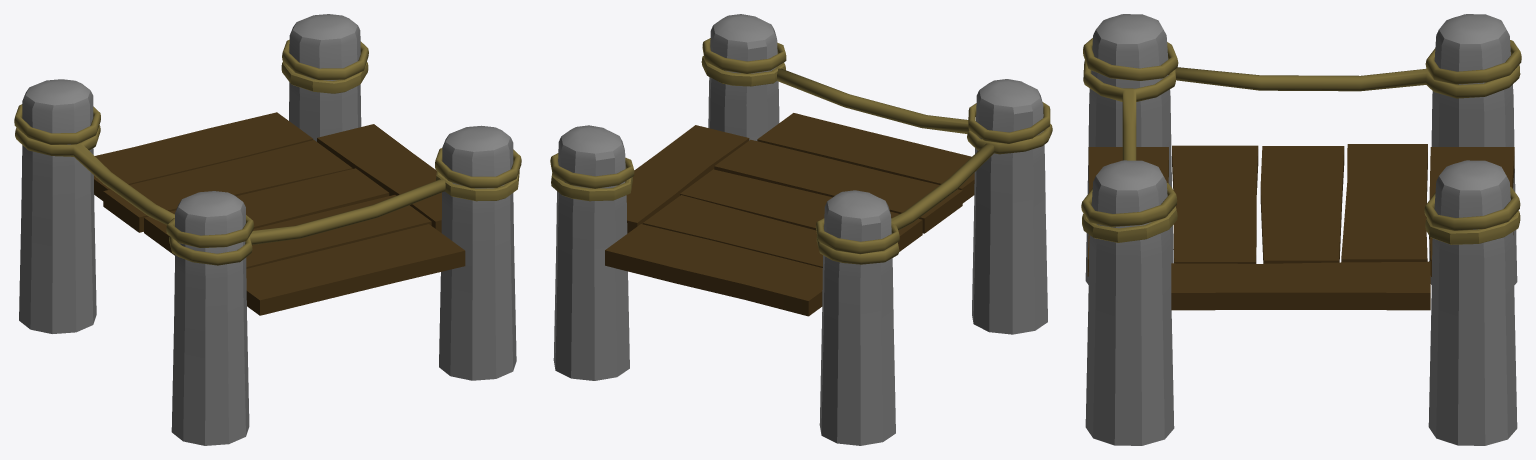
The model's file is DockConnectorOneway.fbx.
3 views of the same model, side by side, from view 1: azimuth 30°, elevation 25°; view 2: azimuth 150°, elevation 25°; view 3: azimuth 270°, elevation 25° (orthographic). The views are drawn at different scales.
Visible parts, largest first — view 1: DockPillar021, DockPillar019, DockPillar022, DockPlanks022, DockPlanks024, DockPlanks025, DockPillar020, DockPlanks023, DockPlanks027, DockPlanks026, RopeDock048, RopeDock047 (+6 smaller); view 2: DockPillar019, DockPillar021, DockPillar020, DockPlanks025, DockPlanks026, DockPlanks022, DockPillar022, DockPlanks024, DockPlanks027, DockPlanks023, RopeDock048, RopeDock047 (+6 smaller); view 3: DockPillar020, DockPillar022, DockPlanks027, DockPlanks026, DockPlanks024, DockPlanks023, DockPillar019, DockPillar021, RopeDock047, RopeDock048, DockPlanks025, DockPlanks022 (+6 smaller).
Part boxes in pixels (left/top/right/bottom): DockPillar021: left=171, top=191, right=249, bottom=445; DockPillar019: left=19, top=79, right=96, bottom=333; DockPillar022: left=439, top=125, right=516, bottom=380; DockPlanks022: left=246, top=224, right=465, bottom=315; DockPlanks024: left=103, top=140, right=352, bottom=232; DockPlanks025: left=94, top=112, right=313, bottom=200; DockPillar020: left=289, top=14, right=361, bottom=141; DockPlanks023: left=144, top=168, right=389, bottom=255; DockPlanks027: left=317, top=124, right=441, bottom=232; DockPlanks026: left=246, top=195, right=431, bottom=268; RopeDock048: left=169, top=179, right=445, bottom=265; RopeDock047: left=15, top=125, right=174, bottom=224; DockPillar019: left=819, top=190, right=895, bottom=445; DockPillar021: left=972, top=79, right=1047, bottom=334; DockPillar020: left=553, top=125, right=629, bottom=380; DockPlanks025: left=605, top=224, right=822, bottom=316; DockPlanks026: left=714, top=139, right=962, bottom=233; DockPlanks022: left=757, top=113, right=974, bottom=203; DockPillar022: left=708, top=14, right=779, bottom=140; DockPlanks024: left=643, top=195, right=822, bottom=267; DockPlanks027: left=626, top=125, right=749, bottom=233; DockPlanks023: left=680, top=169, right=922, bottom=251; RopeDock048: left=777, top=68, right=1052, bottom=154; RopeDock047: left=816, top=143, right=994, bottom=264; DockPillar020: left=1428, top=160, right=1517, bottom=445; DockPillar022: left=1085, top=160, right=1174, bottom=445; DockPlanks027: left=1171, top=261, right=1430, bottom=310; DockPlanks026: left=1172, top=145, right=1258, bottom=263; DockPlanks024: left=1341, top=144, right=1427, bottom=262; DockPlanks023: left=1260, top=146, right=1344, bottom=263; DockPillar019: left=1429, top=14, right=1517, bottom=284; DockPillar021: left=1085, top=14, right=1173, bottom=284; RopeDock047: left=1175, top=64, right=1520, bottom=98; RopeDock048: left=1083, top=60, right=1175, bottom=160; DockPlanks025: left=1429, top=147, right=1514, bottom=276; DockPlanks022: left=1087, top=147, right=1168, bottom=276.
Size of the model in its own units: 162 by 161 by 105.
